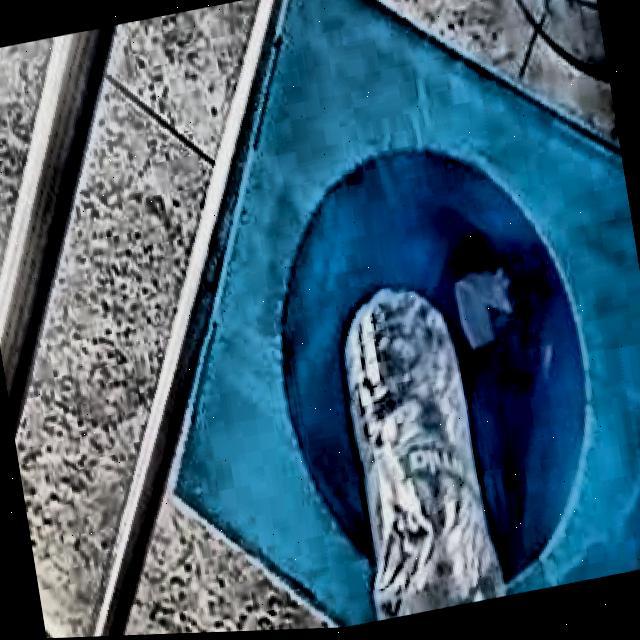plastic: (345, 293, 506, 624)
